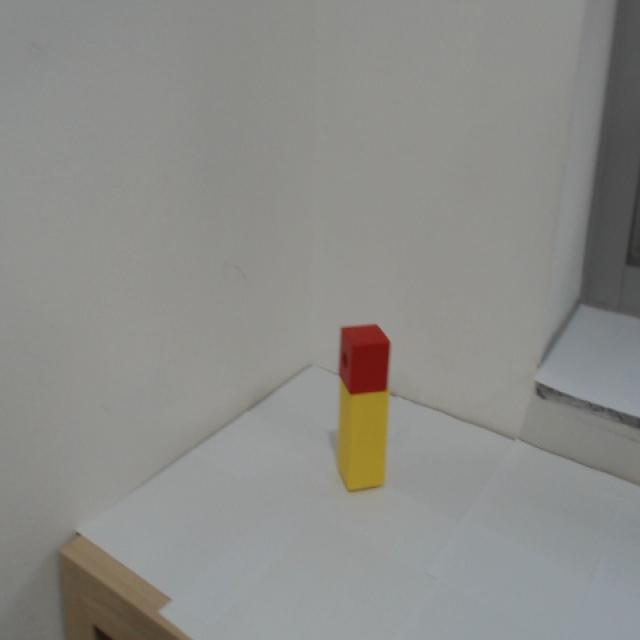cube: (335, 323, 396, 401)
